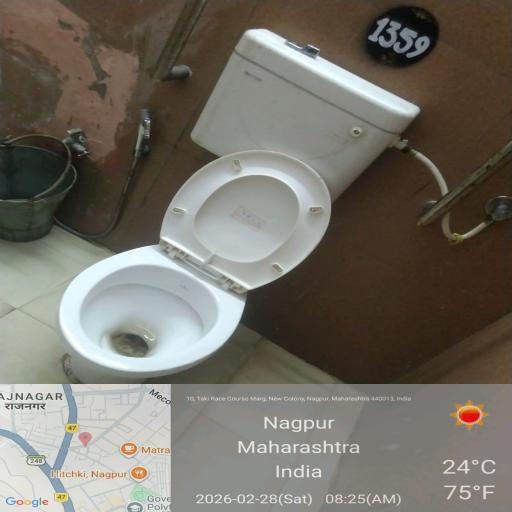partial_dirty_western: (63, 173, 291, 401)
